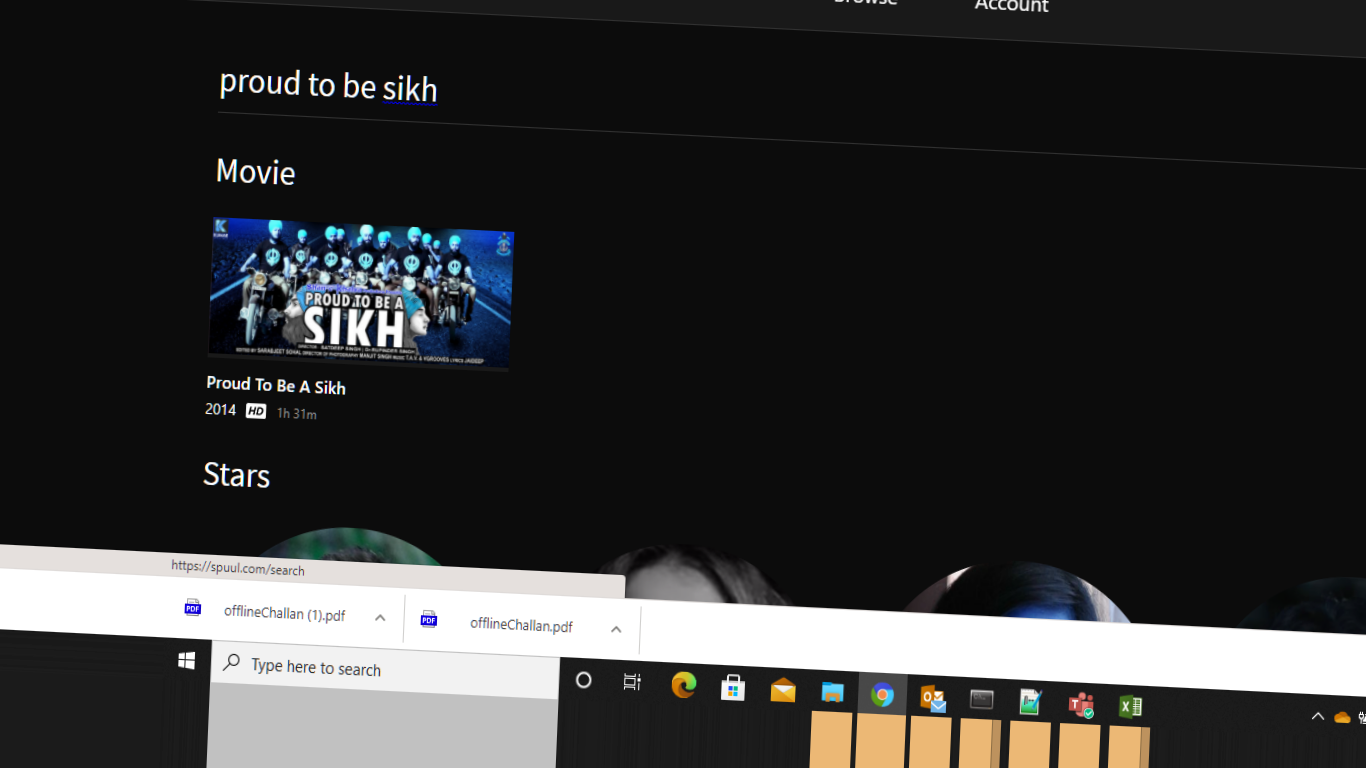myaccountbutton: (963, 1, 1077, 45)
resultsfound: (193, 132, 327, 211)
searchtextbox: (222, 48, 782, 125)
